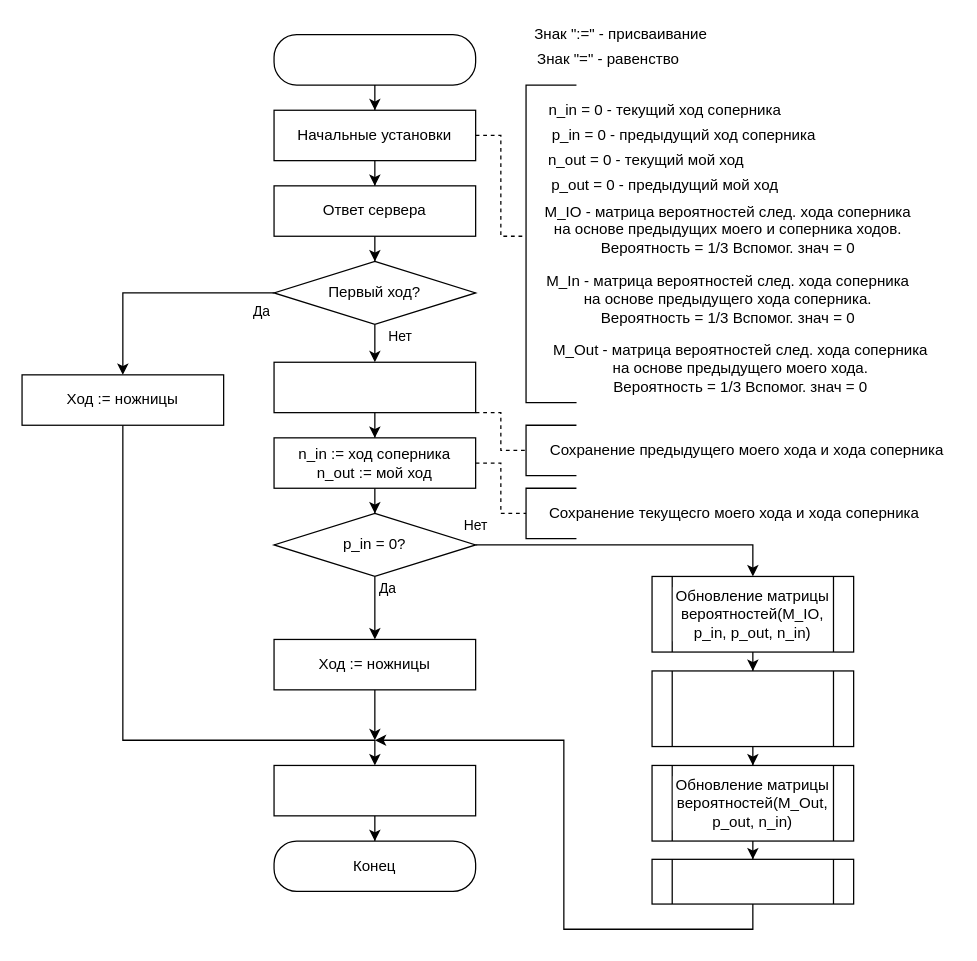
Image size: 977x961. Some labels were removed from this diagram. Each missing label, with the centre of its shape:
"p_in := n_in p_out := n_out" goes at (374,387).
"Начало" goes at (374,59).
"Обновление матрицы вероятностей(M_In, p_in, n_in)" goes at (752,708).
"Определение хода(p_in, p_out, n_in)" goes at (752,881).
"Передача хода на сервер" goes at (374,790).
